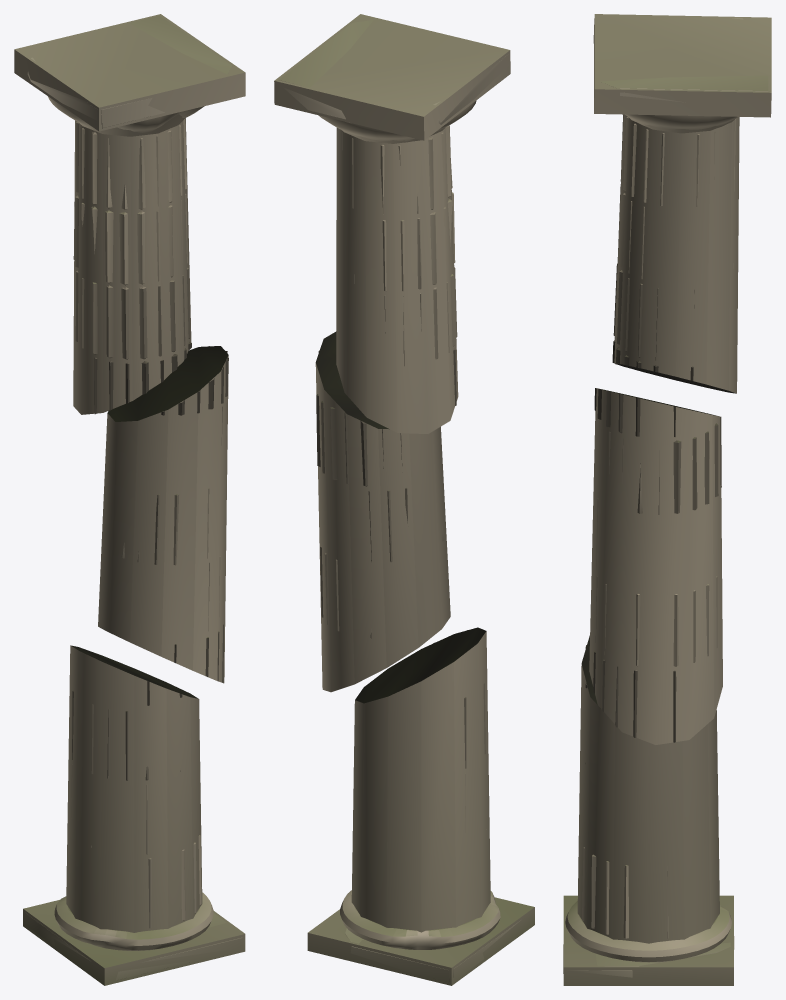
The model's file is street_column_cracked.glb.
3 renders of one model, left to right at view 1: azimuth 30°, elevation 25°; view 2: azimuth 150°, elevation 25°; view 3: azimuth 270°, elevation 25°, orthographic. The views are drawn at different scales.
Visible parts, largest first — view 1: street_column_cracked_far, street_column_cracked; view 2: street_column_cracked_far, street_column_cracked; view 3: street_column_cracked_far, street_column_cracked.
Boxes of the visible parts, left/top/right/bottom form: street_column_cracked_far: left=14, top=14, right=245, bottom=985; street_column_cracked: left=24, top=15, right=242, bottom=980; street_column_cracked_far: left=274, top=14, right=534, bottom=985; street_column_cracked: left=279, top=20, right=520, bottom=982; street_column_cracked_far: left=563, top=14, right=771, bottom=985; street_column_cracked: left=563, top=18, right=768, bottom=977.
Bounding box in the file's own units: 5.73 × 29.33 × 6.12.
